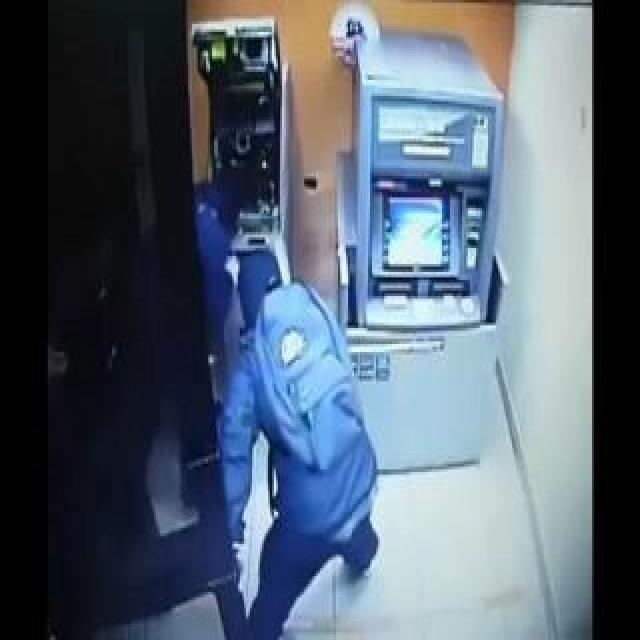thief: (159, 168, 327, 376)
